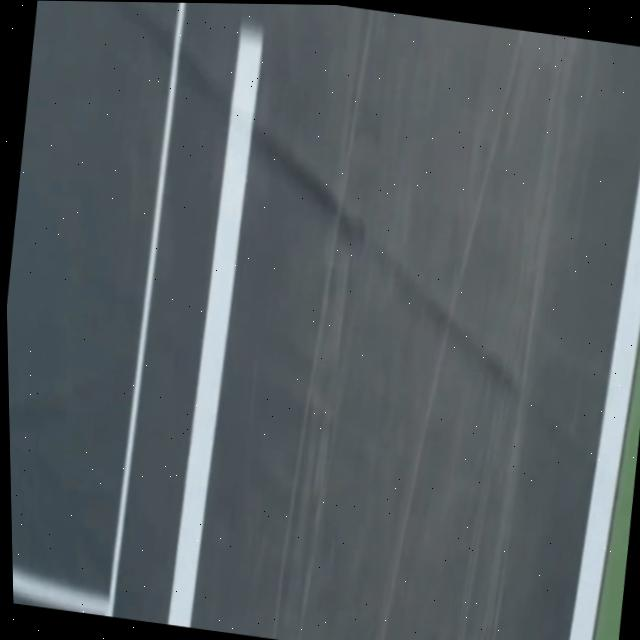center: (167, 24, 262, 626)
right: (568, 163, 640, 640)
